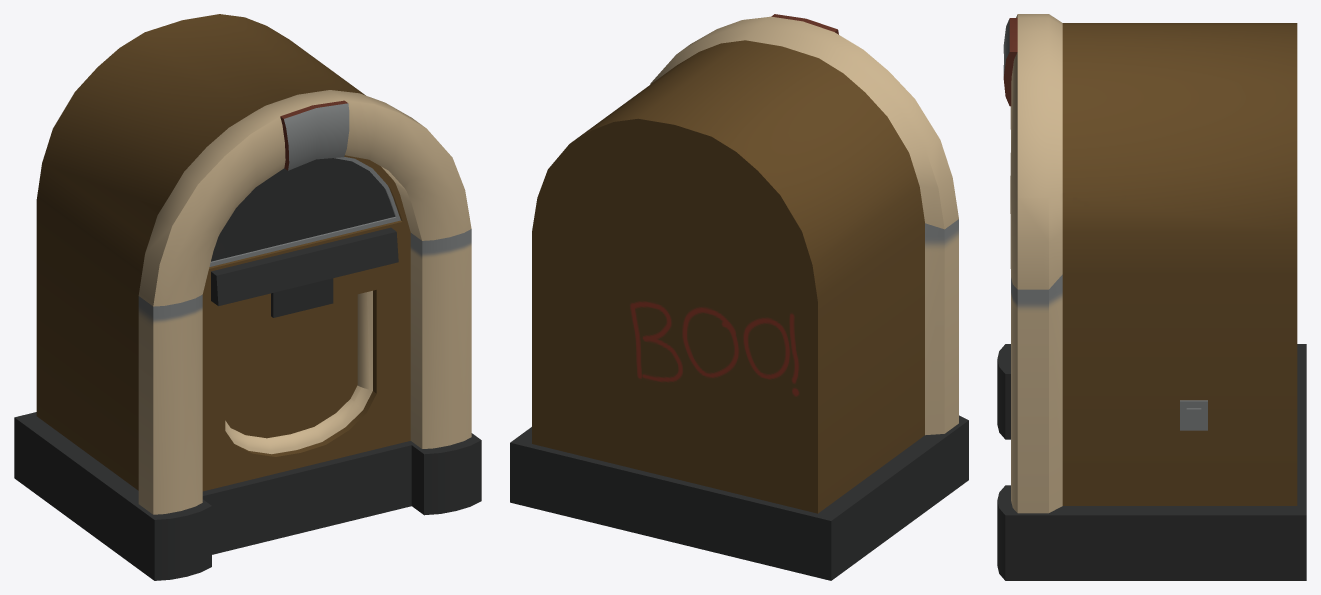
Rendered from jukebox 1.fbx.
3 views of the same model, side by side, from view 1: azimuth 30°, elevation 25°; view 2: azimuth 150°, elevation 25°; view 3: azimuth 270°, elevation 25° (orthographic). The views are drawn at different scales.
Parts seen in each view (by area): view 1: jukebox; view 2: jukebox; view 3: jukebox.
Boxes of the visible parts, left/top/right/bottom form: jukebox: left=14, top=14, right=481, bottom=580; jukebox: left=510, top=14, right=968, bottom=580; jukebox: left=997, top=14, right=1306, bottom=580.
Size of the model in its own units: 123 by 155 by 93.99.
Materials: 1 (1 with a texture image).
